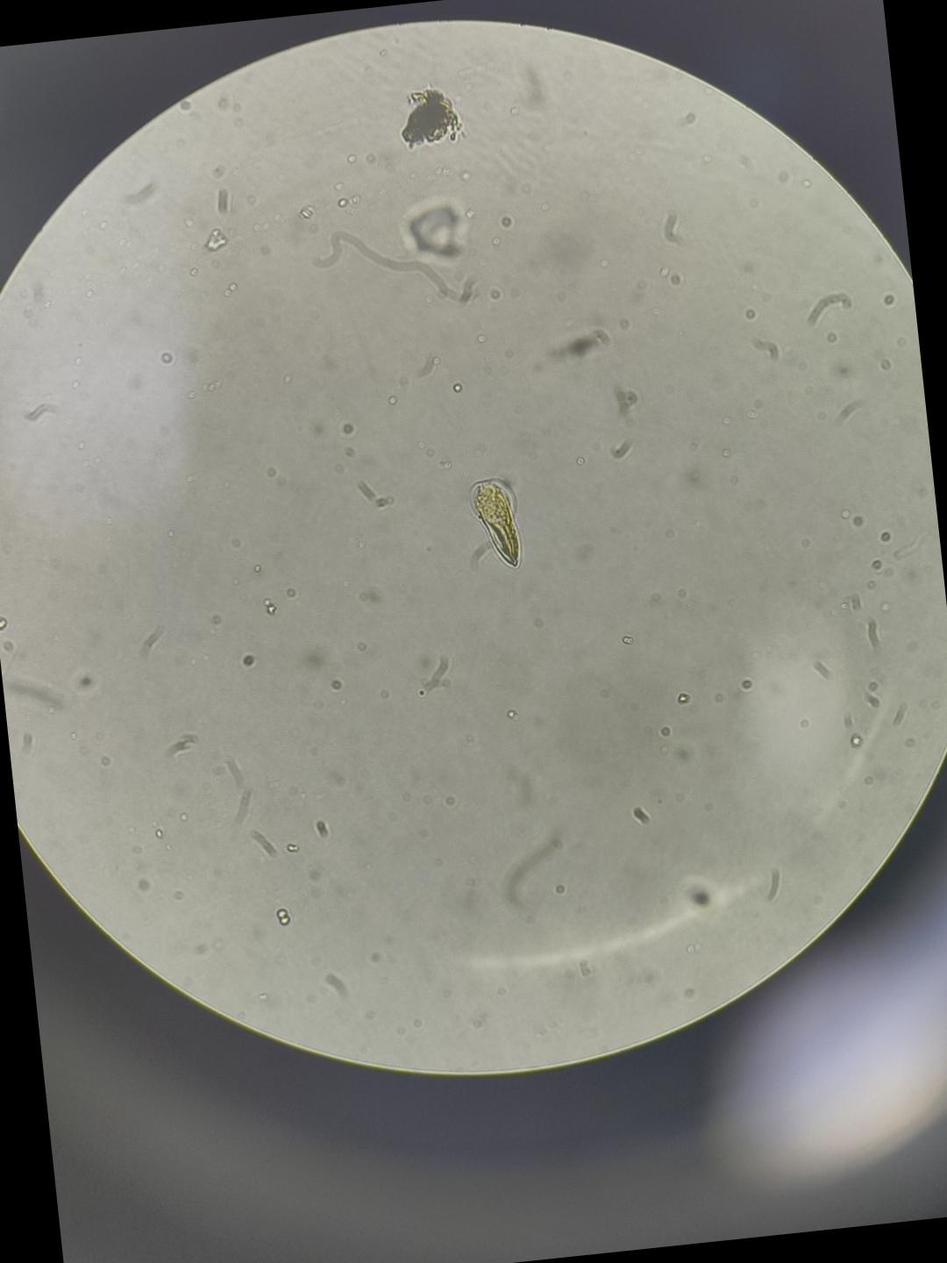Euglena: (456, 465, 533, 580)
